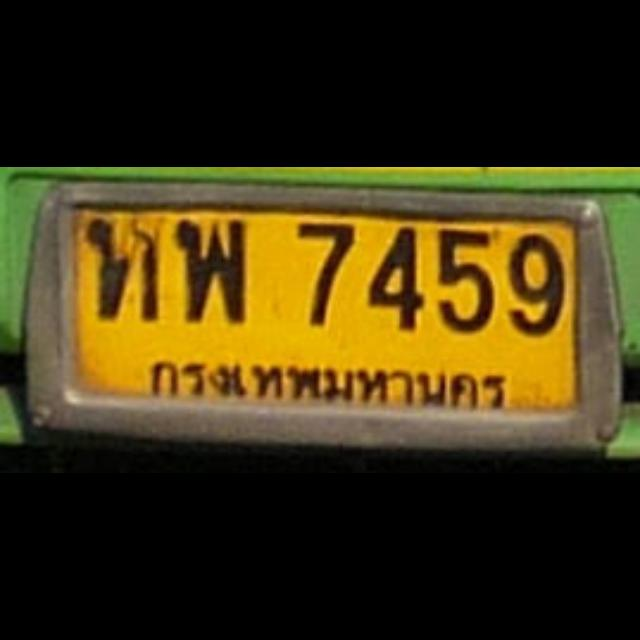licenseplate: (37, 181, 623, 455)
